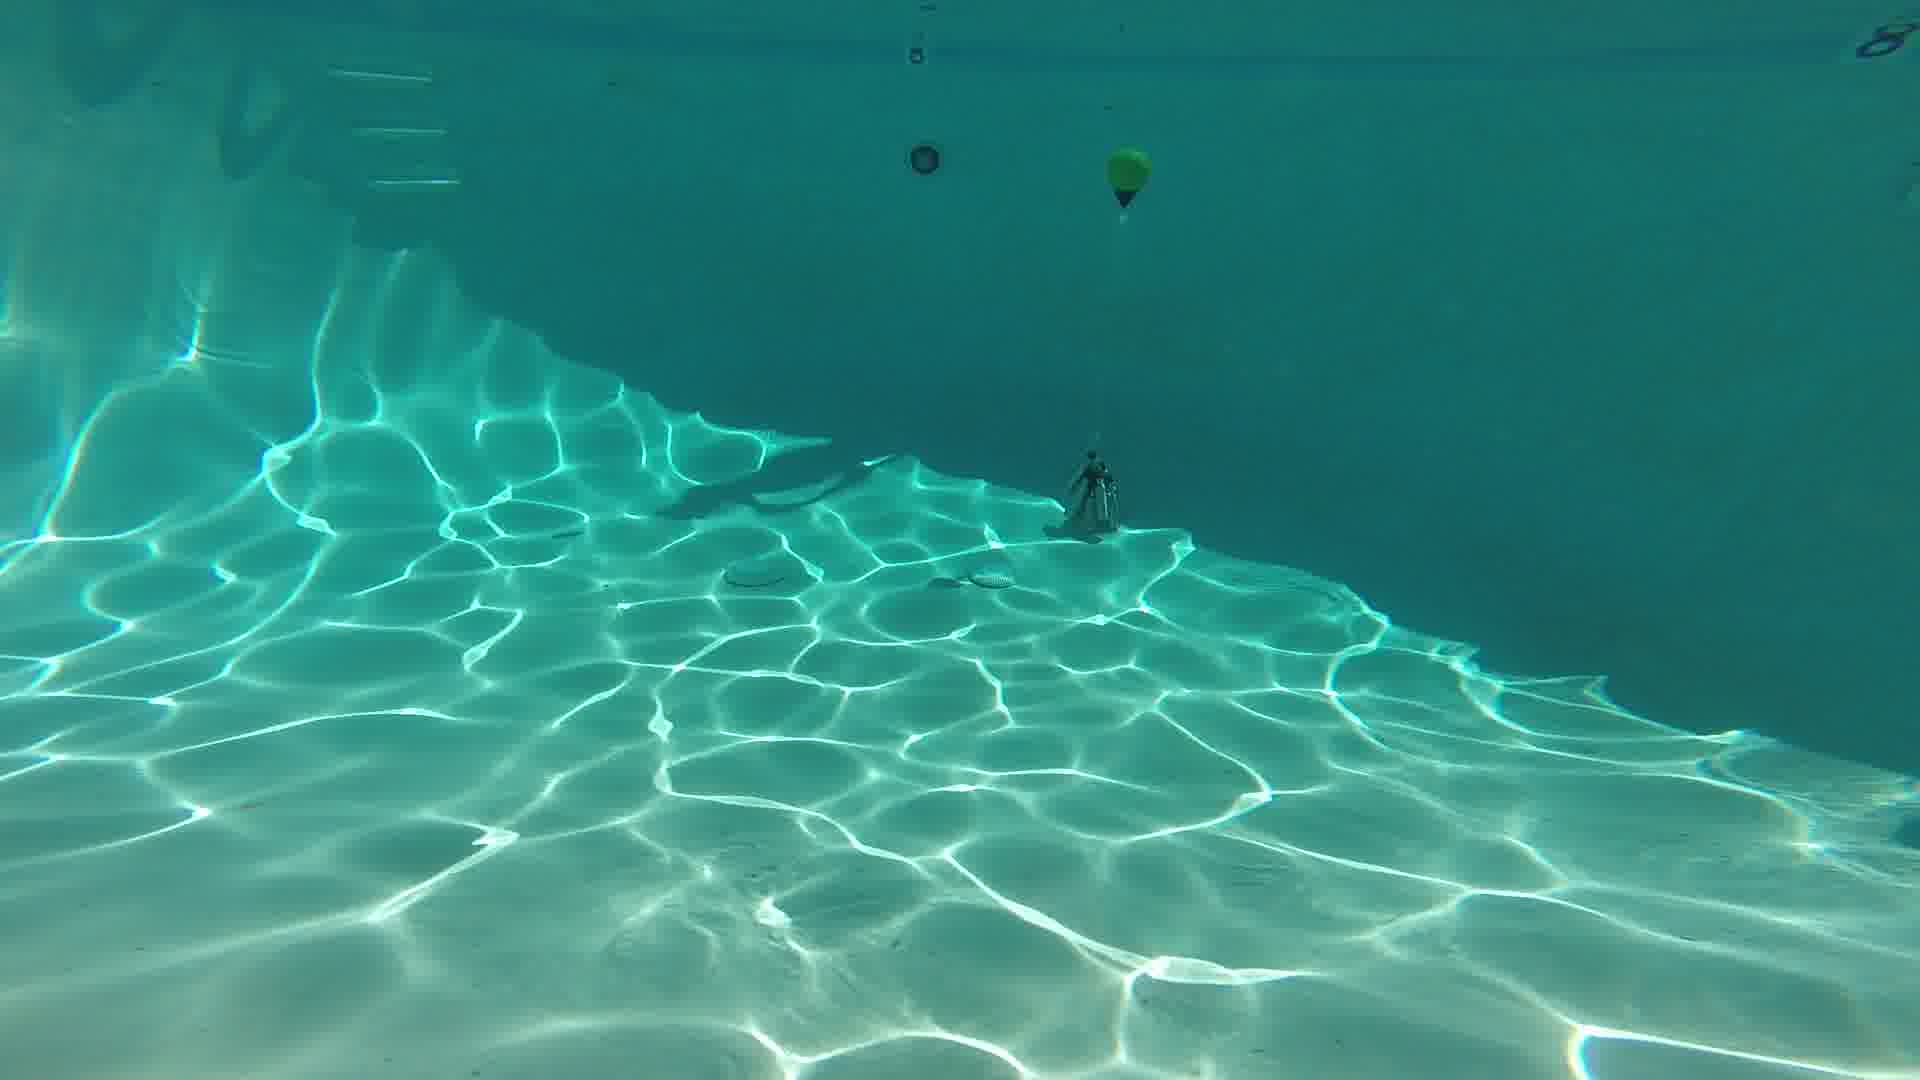yellow_buoy: (1106, 150, 1146, 204)
